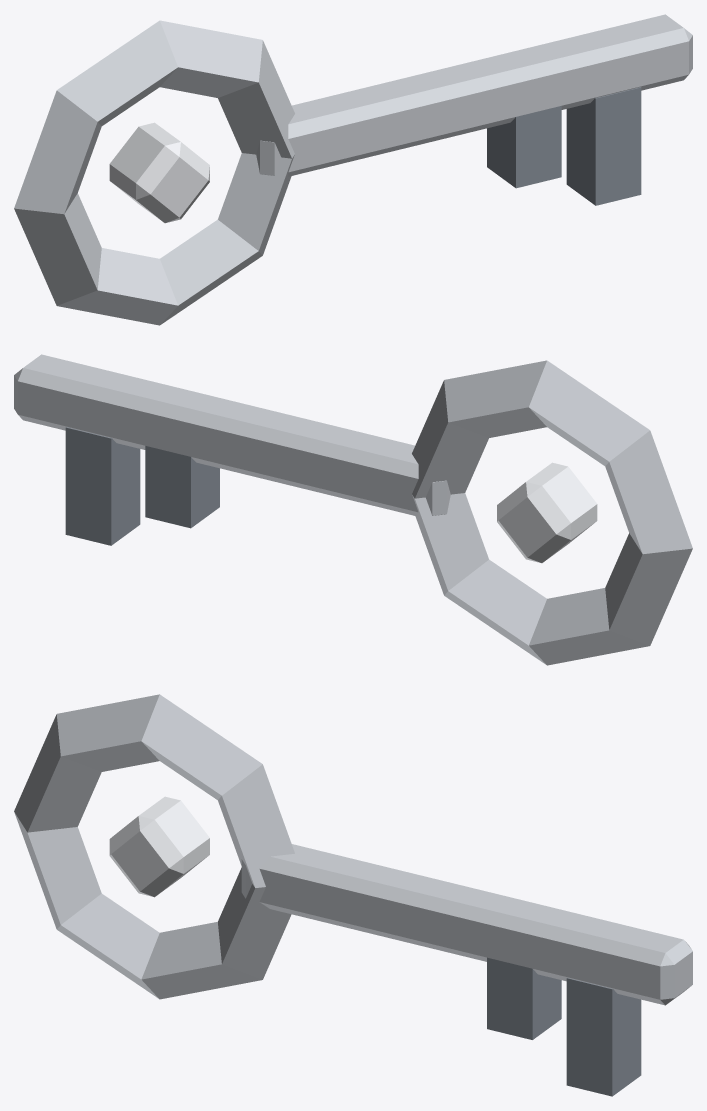
The model's file is IronKey.fbx.
The picture shows the model from 3 angles, top to bottom: view 1: azimuth 30°, elevation 25°; view 2: azimuth 150°, elevation 25°; view 3: azimuth 330°, elevation 25°; orthographic projection.
Visible parts, largest first — view 1: IronKey; view 2: IronKey; view 3: IronKey.
Part boxes in pixels (bbox=[...]): IronKey: bbox=[14, 14, 692, 325]; IronKey: bbox=[14, 354, 692, 665]; IronKey: bbox=[14, 694, 692, 1096].
Bounding box in the file's own units: 2.94 × 1.28 × 0.3.
1 material, 1 textured.
